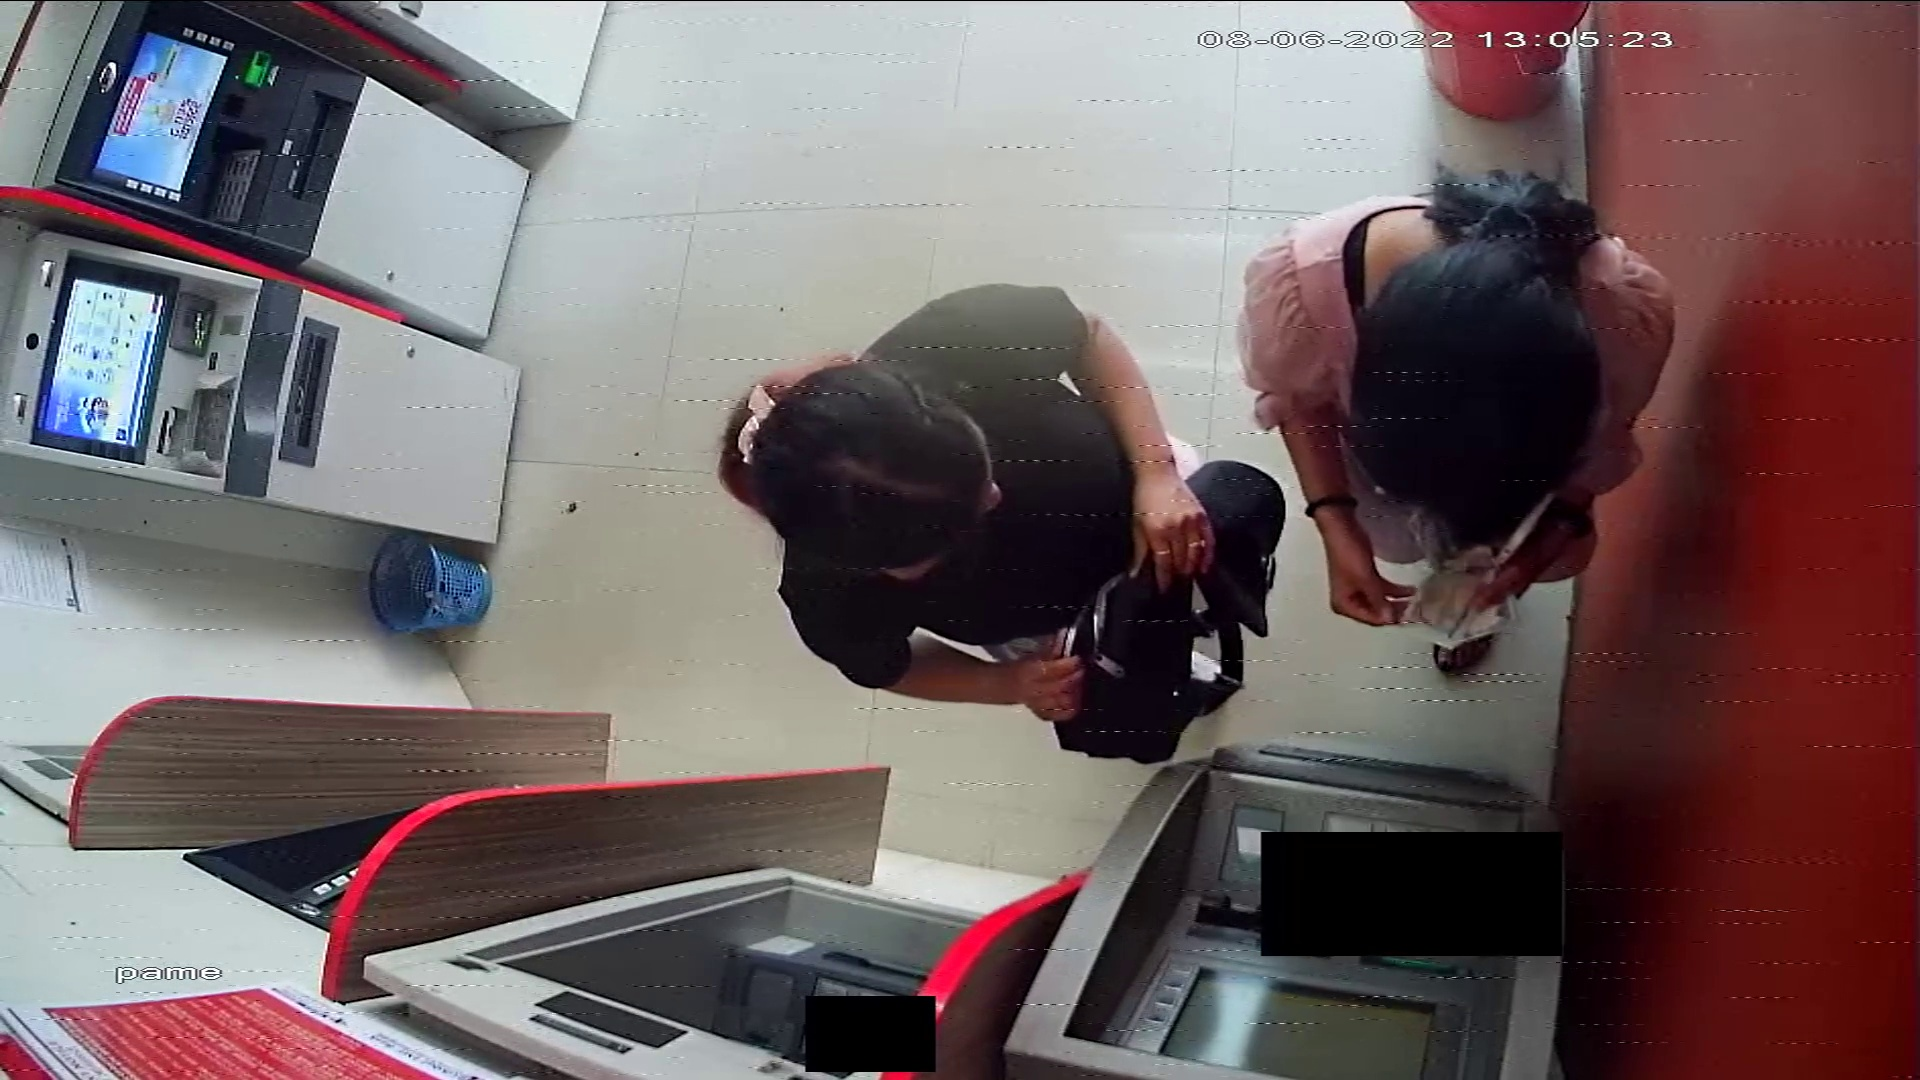person: (716, 281, 1226, 729), (1241, 171, 1682, 671)
